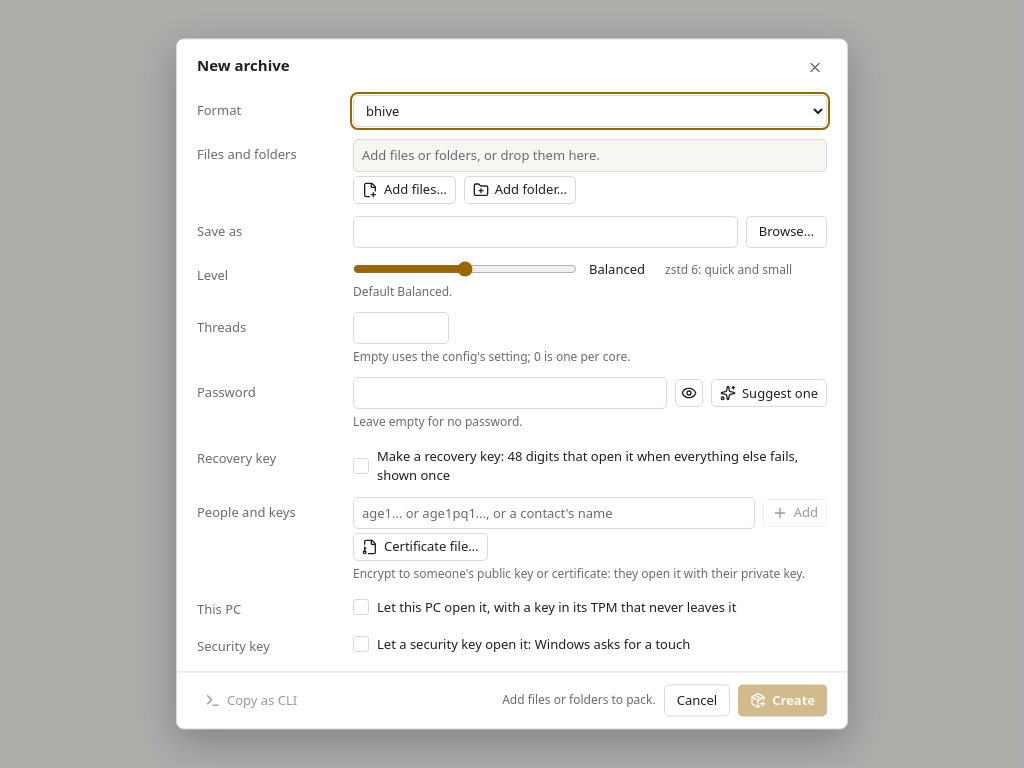
Scenario: the create dialog › says why Create is disabled, and warns of a weak password without refusing it
Expected: the button "Create" is disabled, [738,685,827,717]
// A weak password is a warning in amber, not an error: it isn't why Create is disabled.
Select "bhive" in the dropdown labelled "Format": (590, 111) [353,95,827,127]
In the password field labelled "Password": (510, 394) [353,378,667,410], type "summer2026"
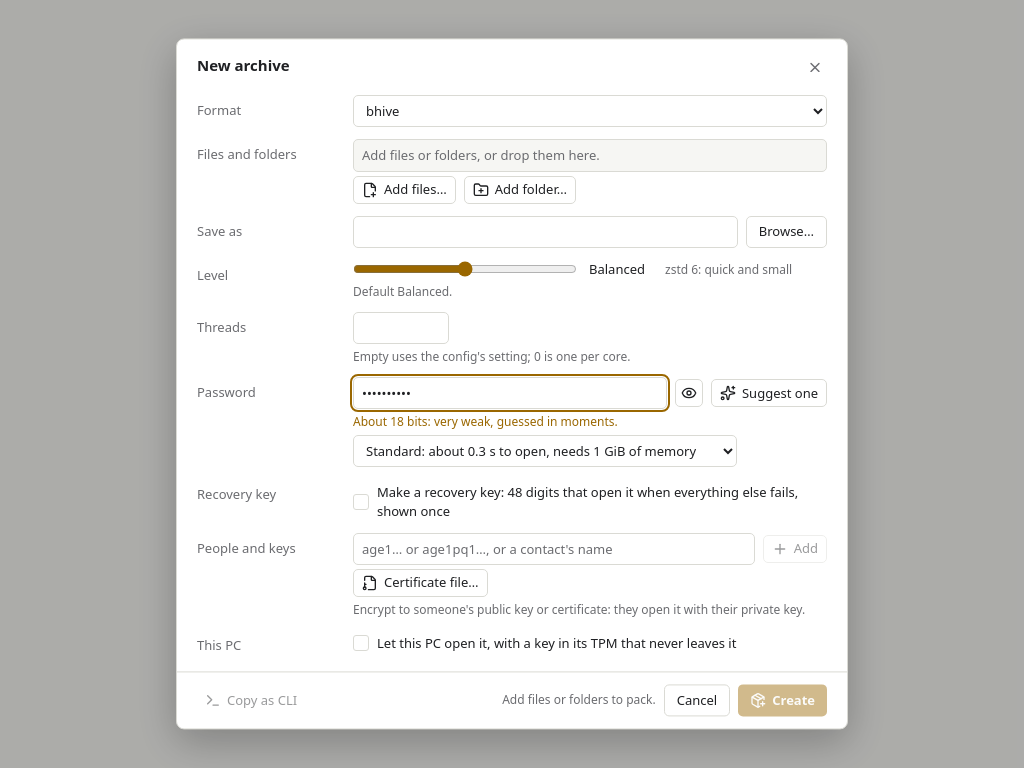
Result: the message shows "very weak" at [353,414,618,431]
Click the button "Add files…": (404, 190) [353,176,456,204]
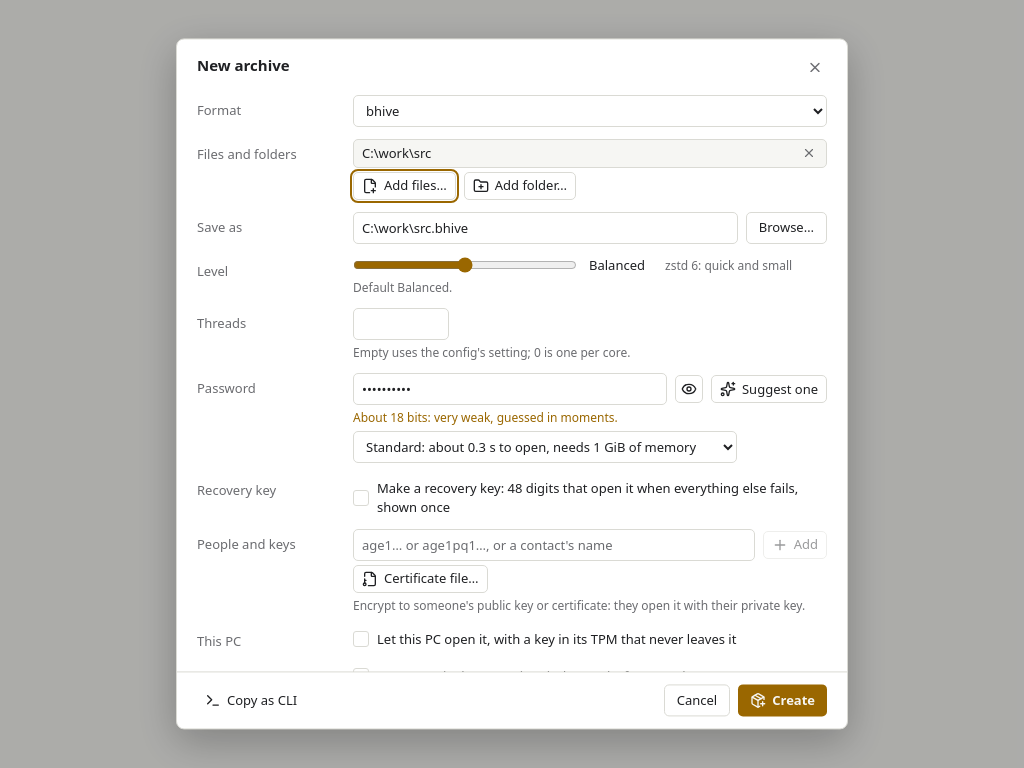
Result: the button "Create" is enabled at [738,685,827,717]
Result: the text "Add files or folders to pack." is gone
Result: the field labelled "Save as" holds "C:\\work\\src.bhive"
Clear the field labelled "Save as": (545, 228) [353,212,738,244]
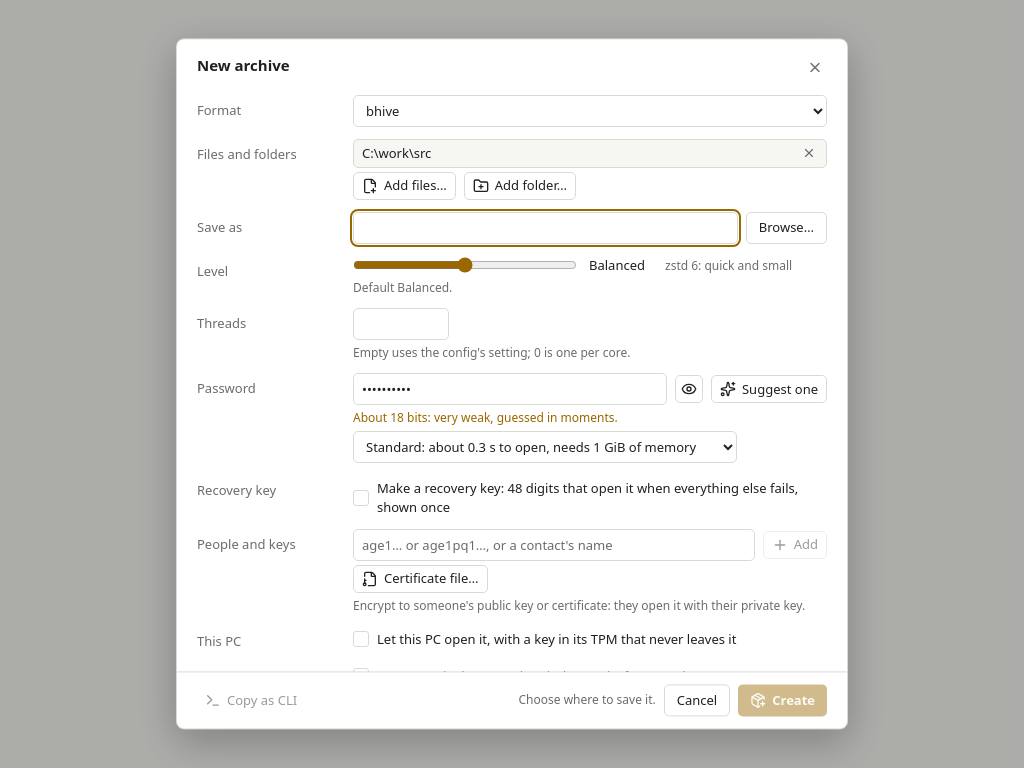
Result: the button "Create" is disabled at [738,685,827,717]
